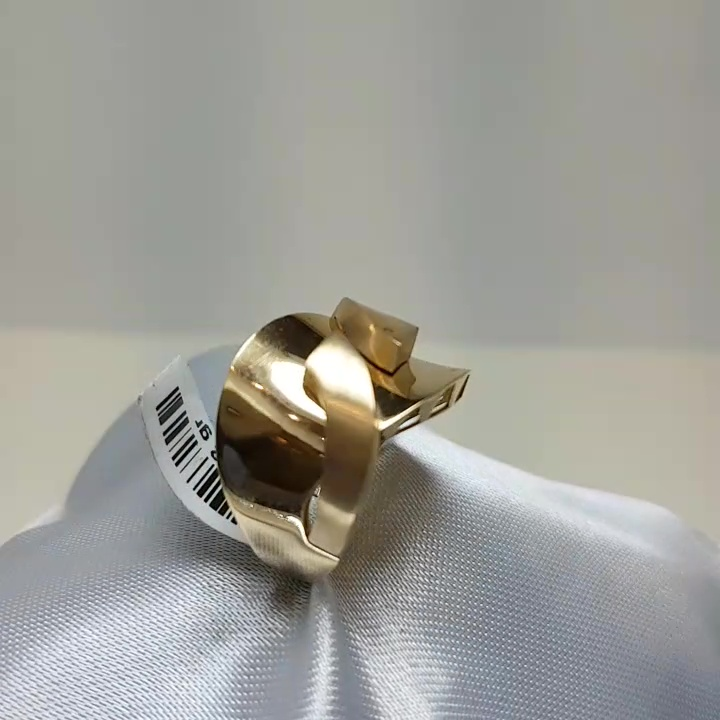Ring 4: (150, 282, 487, 600)
